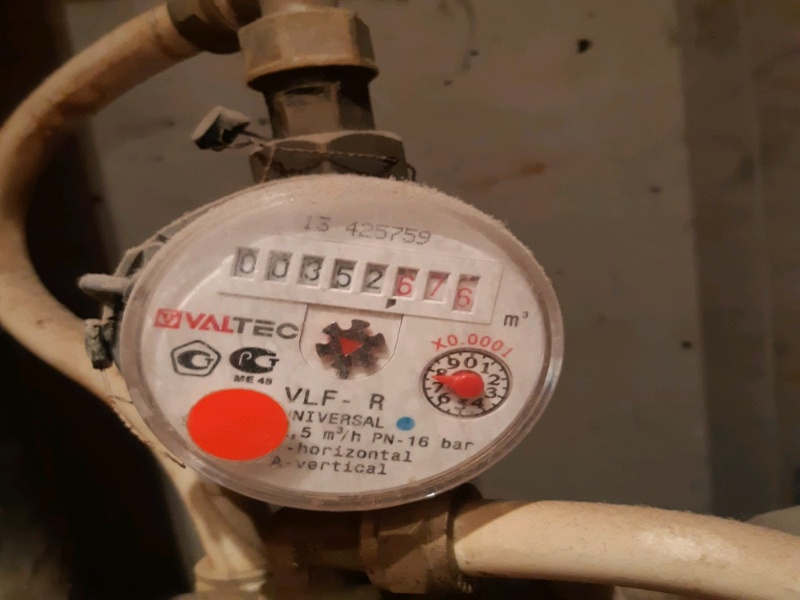meter: (219, 251, 485, 310)
